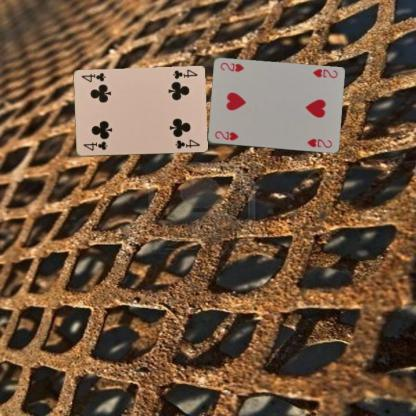2h: (310, 66, 338, 80), (212, 129, 239, 142)
4c: (80, 139, 109, 152), (170, 67, 198, 80)
